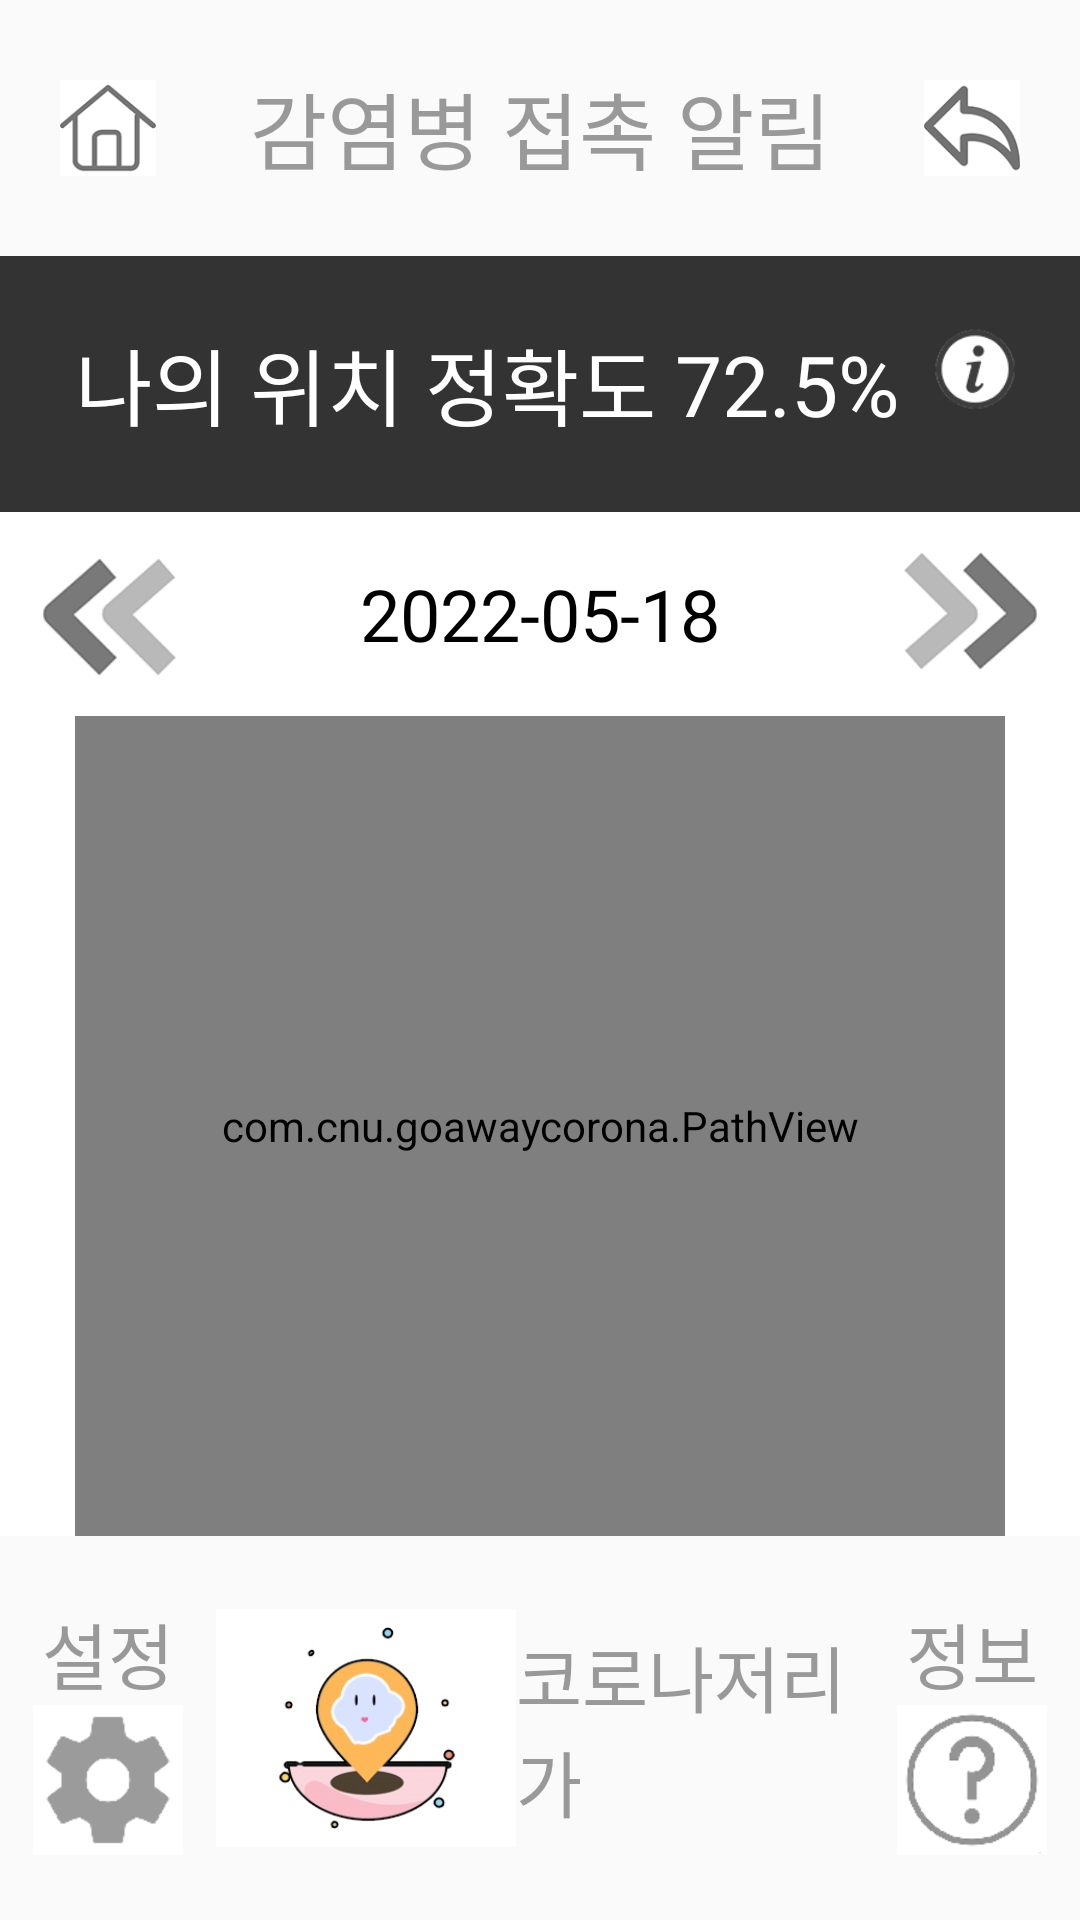

Where to tap for icons on this 1080w x 1920h app screen, as (x,y):
back: (972,128)
home: (108,128)
information: (974,369)
next: (970,611)
prev: (109,617)
question: (972,1780)
setting: (108,1780)
